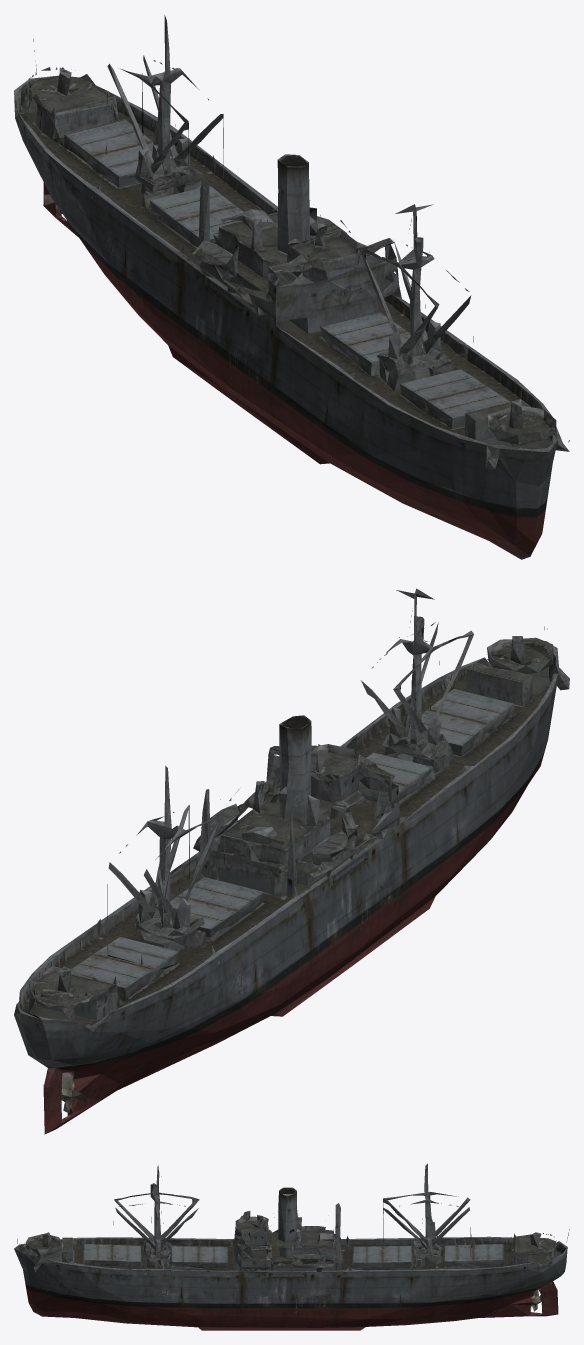
Rendered from realistic-cc0.f77cec64a90b.transport.glb.
The picture shows the model from 3 angles, top to bottom: view 1: azimuth 30°, elevation 25°; view 2: azimuth 150°, elevation 25°; view 3: azimuth 270°, elevation 25°; orthographic projection. The views are drawn at different scales.
Parts seen in each view (by area): view 1: transport; view 2: transport; view 3: transport.
Part boxes in pixels (bbox=[...]): transport: bbox=[14, 15, 569, 559]; transport: bbox=[14, 588, 569, 1134]; transport: bbox=[14, 1163, 569, 1330].
Size of the model in its own units: 20.19 by 41.19 by 135.
1 material, 1 textured.
